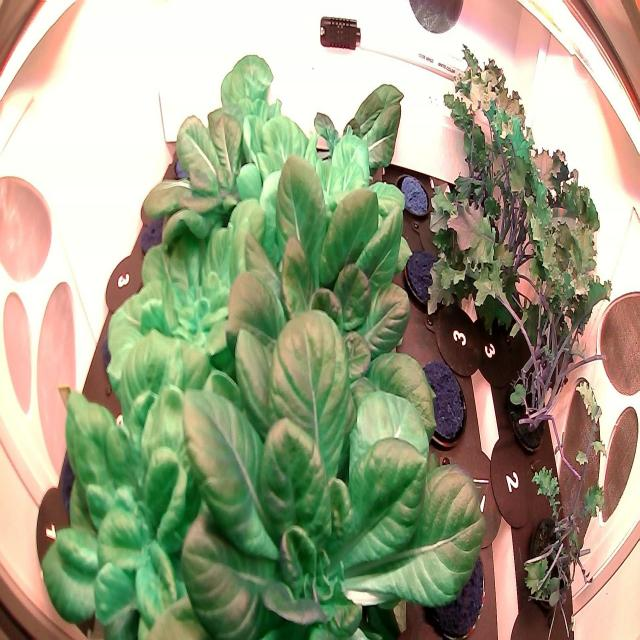pod: (412, 526, 486, 636), (132, 187, 194, 281), (414, 352, 469, 447), (401, 239, 452, 319), (396, 168, 434, 225)
young: (147, 297, 490, 640), (210, 148, 443, 454), (38, 373, 224, 640), (100, 203, 287, 421), (234, 110, 410, 306), (137, 91, 284, 275), (273, 57, 408, 203), (205, 48, 294, 166)
